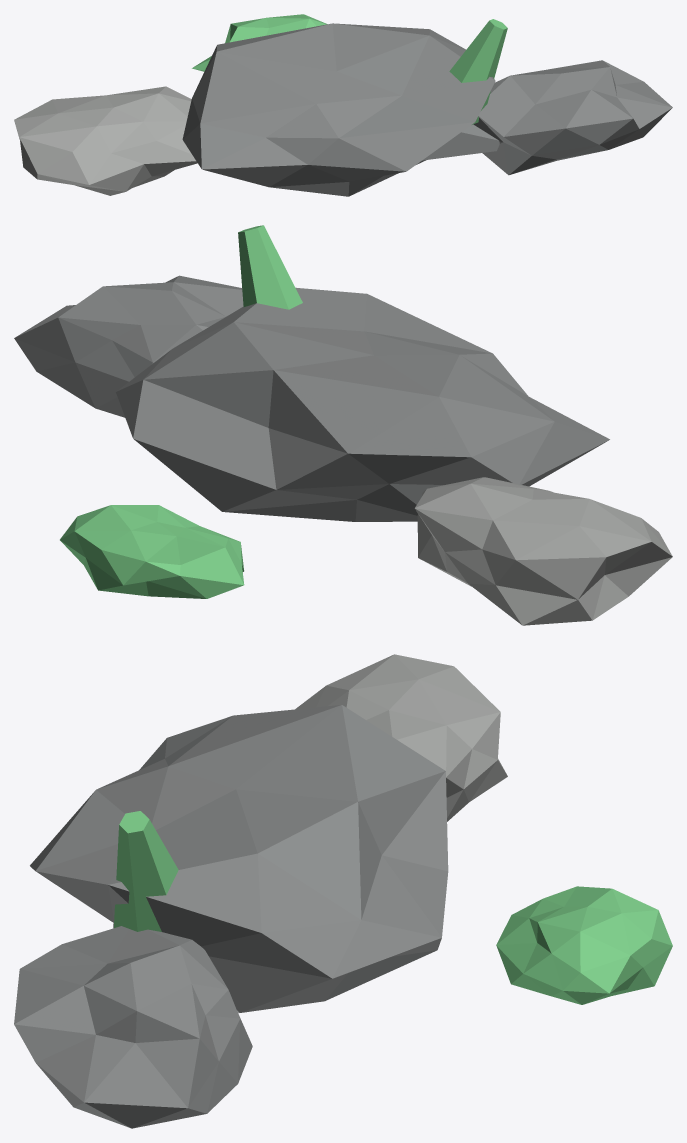
Rendered from t3_ore_depleted.glb.
3 renders of one model, top to bottom at view 1: azimuth 30°, elevation 25°; view 2: azimuth 150°, elevation 25°; view 3: azimuth 270°, elevation 25°, orthographic. The views are drawn at different scales.
Visible parts, largest first — view 1: OreRubbleCenter, OreRubbleLeft, OreRubbleRight, SpentOreShard, OreChip; view 2: OreRubbleCenter, OreRubbleLeft, OreRubbleRight, OreChip, SpentOreShard; view 3: OreRubbleCenter, OreRubbleRight, OreChip, OreRubbleLeft, SpentOreShard.
Boxes of the visible parts, x1,y1,x2,y2 form: OreRubbleCenter: (182,23,499,196); OreRubbleLeft: (14,86,197,195); OreRubbleRight: (473,60,672,175); SpentOreShard: (449,19,507,124); OreChip: (192,14,327,71); OreRubbleCenter: (116,287,609,521); OreRubbleLeft: (414,477,672,625); OreRubbleRight: (14,275,243,417); OreChip: (60,505,244,598); SpentOreShard: (238,225,302,309); OreRubbleCenter: (30,705,448,1013); OreRubbleRight: (14,926,252,1128); OreChip: (496,886,672,1004); OreRubbleLeft: (295,654,507,821); SpentOreShard: (114,811,178,931).
Size of the model in its own units: 0.9552 by 0.2367 by 0.6512.
